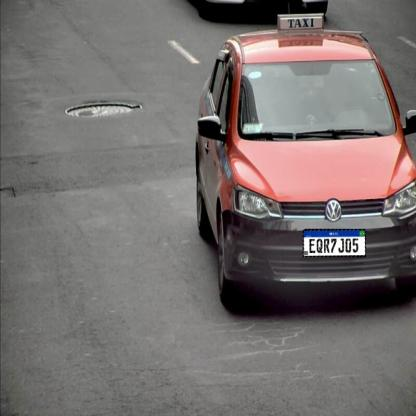PlacaM: (303, 229, 366, 257)
